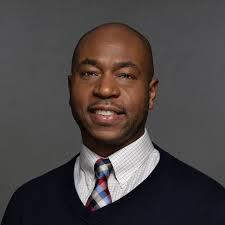Persons: (63, 20, 160, 148)
